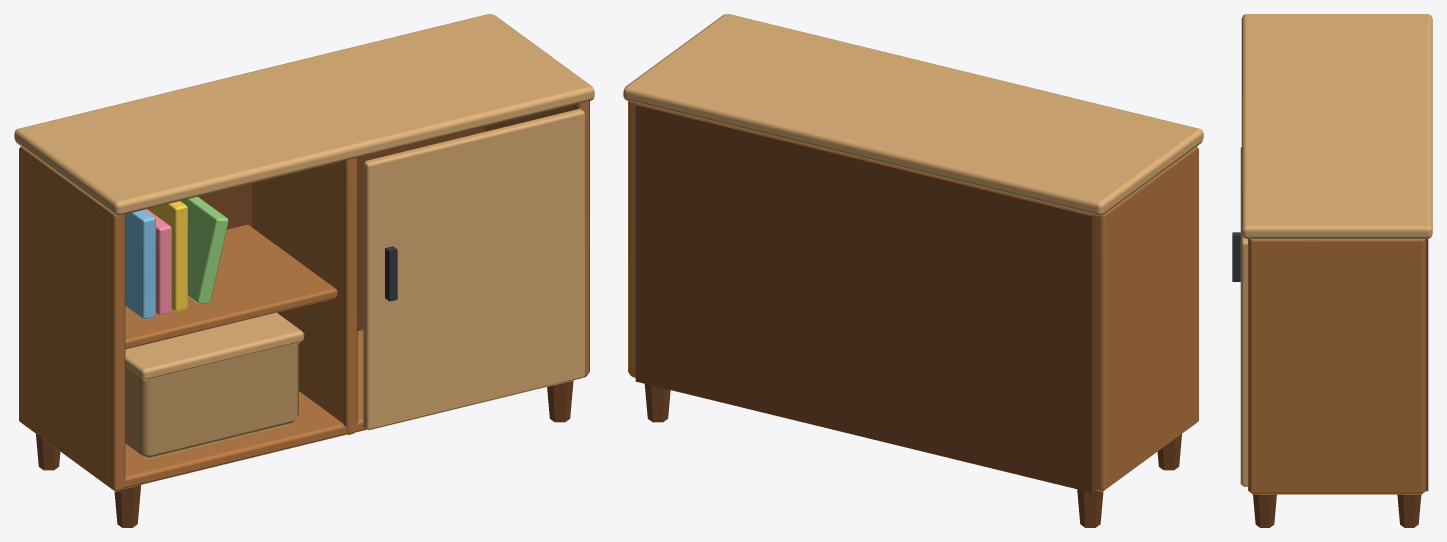
File: station_transport_basis.glb
3 views of the same model, side by side, from view 1: azimuth 30°, elevation 25°; view 2: azimuth 150°, elevation 25°; view 3: azimuth 270°, elevation 25° (orthographic). The views are drawn at different scales.
Parts seen in each view (by area): view 1: station_transport_basis; view 2: station_transport_basis; view 3: station_transport_basis.
Boxes of the visible parts, x1,y1,x2,y2 form: station_transport_basis: (14, 14, 594, 527); station_transport_basis: (623, 14, 1203, 527); station_transport_basis: (1232, 14, 1432, 527).
Bounding box in the file's own units: 1.2 × 0.8 × 0.472.
